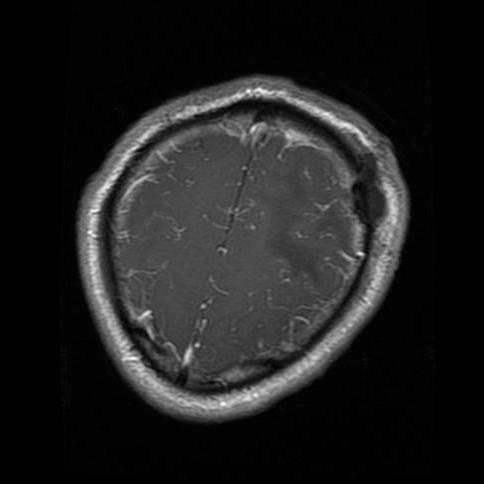Tumour-Glioma: (315, 146, 393, 249)
